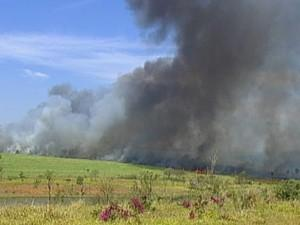smoke: (89, 100, 247, 155), (181, 14, 257, 96), (38, 99, 81, 154)
